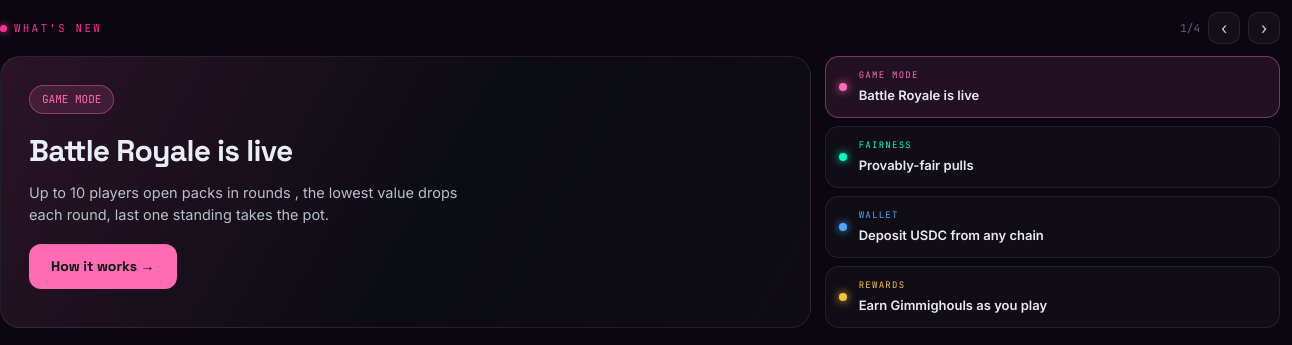
Test: NewsCarousel › shows the first item and advances on next
Expected: the heading "Battle Royale is live" is shown, [29, 130, 292, 170]
What coordinates should you click on to do the following:
click the button named "Next"
I would click on:
 (1264, 28)
Its box is [1248, 12, 1280, 44].
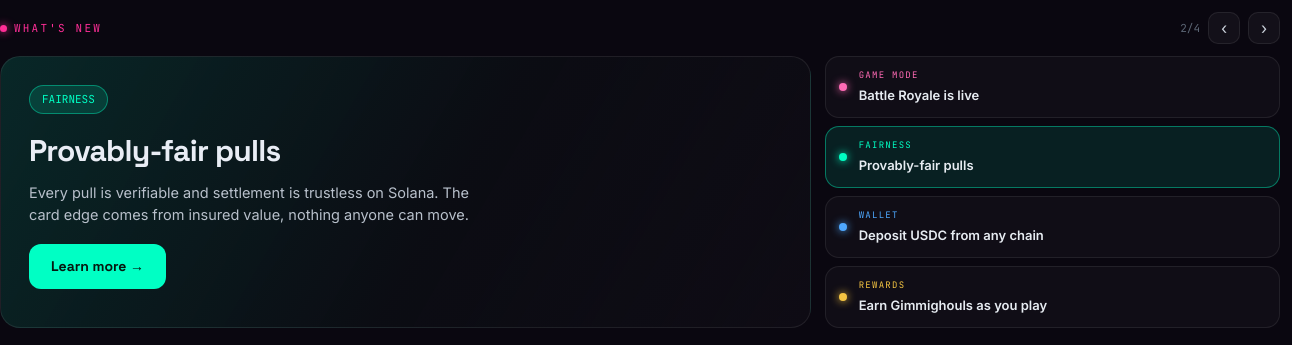
Expected: the heading "Provably-fair pulls" is shown, [29, 130, 280, 170]
